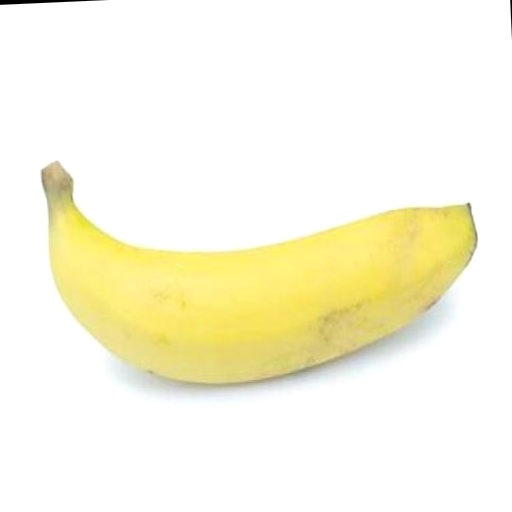fruit: (43, 163, 477, 383)
